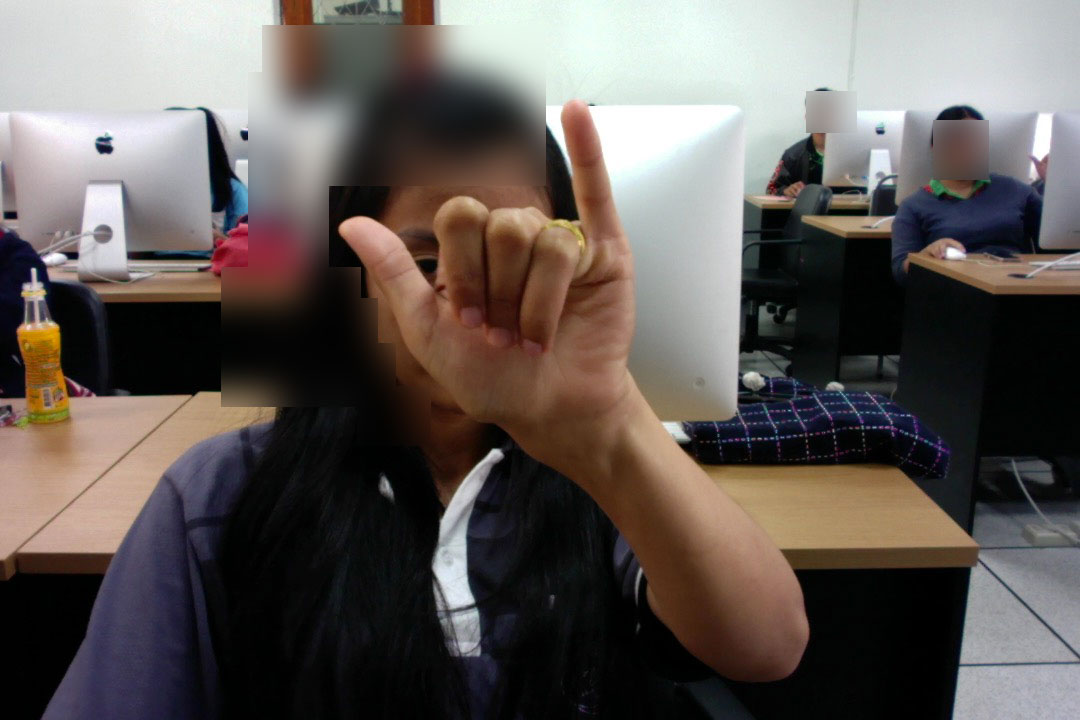yor: (327, 90, 646, 447)
